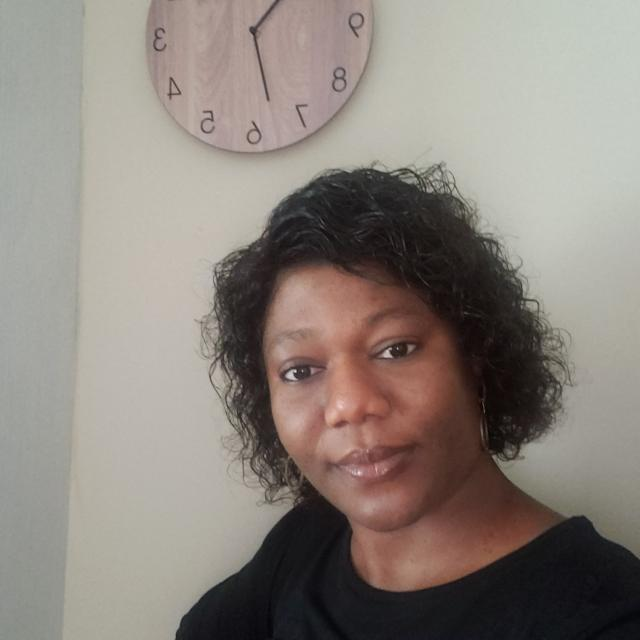happy: (229, 240, 483, 540)
